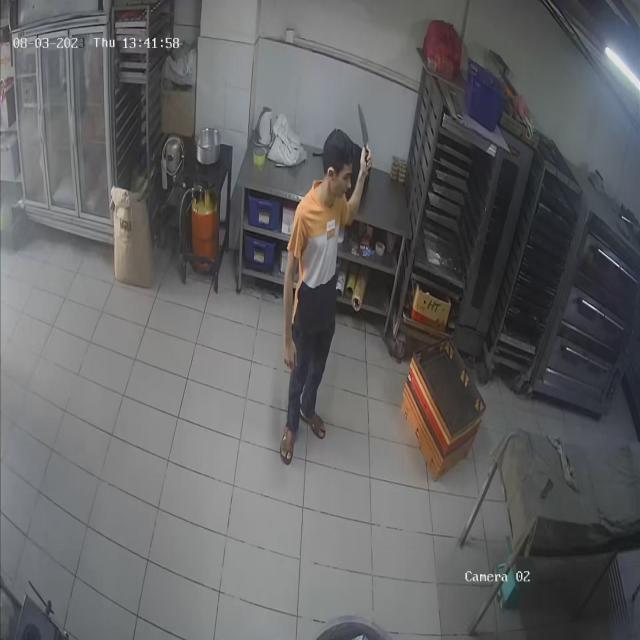Knife: (352, 104, 388, 164)
